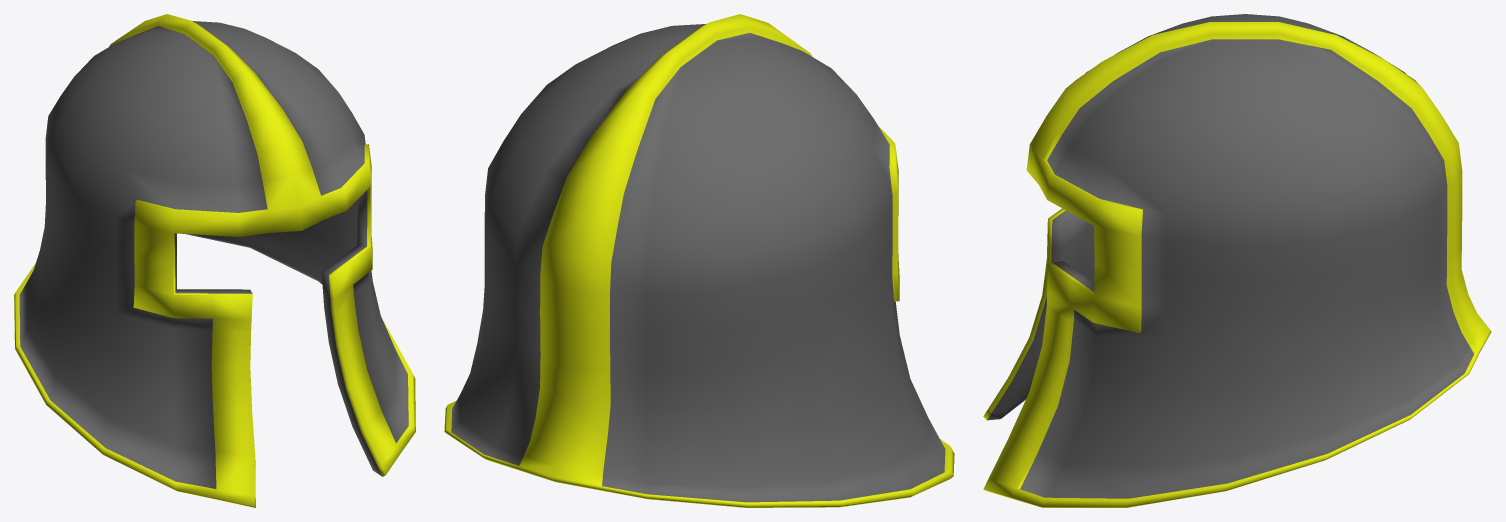
The model's file is Casco.fbx.
3 renders of one model, left to right at view 1: azimuth 30°, elevation 25°; view 2: azimuth 150°, elevation 25°; view 3: azimuth 270°, elevation 25°, orthographic. The views are drawn at different scales.
Visible parts, largest first — view 1: Tube001; view 2: Tube001; view 3: Tube001.
Part boxes in pixels (x1,y1,x2,y2): Tube001: [14, 14, 415, 507]; Tube001: [444, 14, 954, 507]; Tube001: [983, 14, 1491, 507].
Size of the model in its own units: 41.47 by 44.34 by 47.09.
